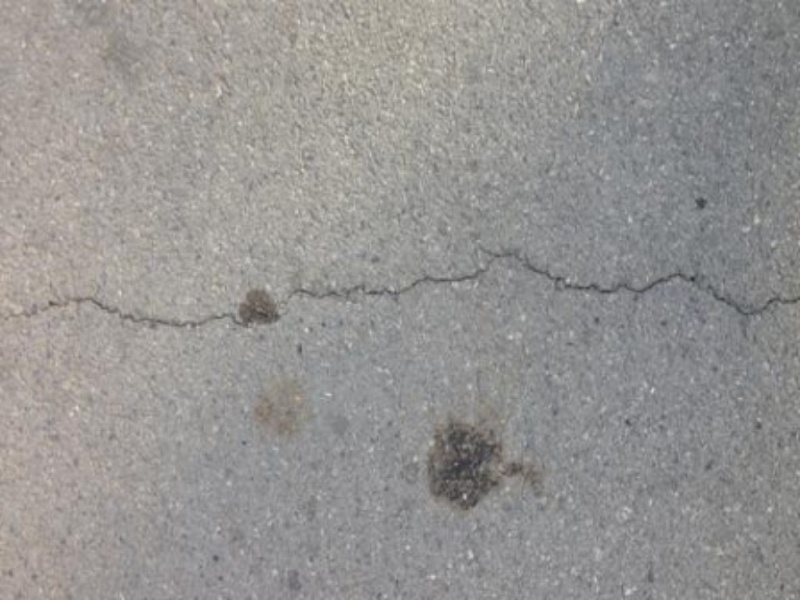crack: (8, 248, 799, 379)
